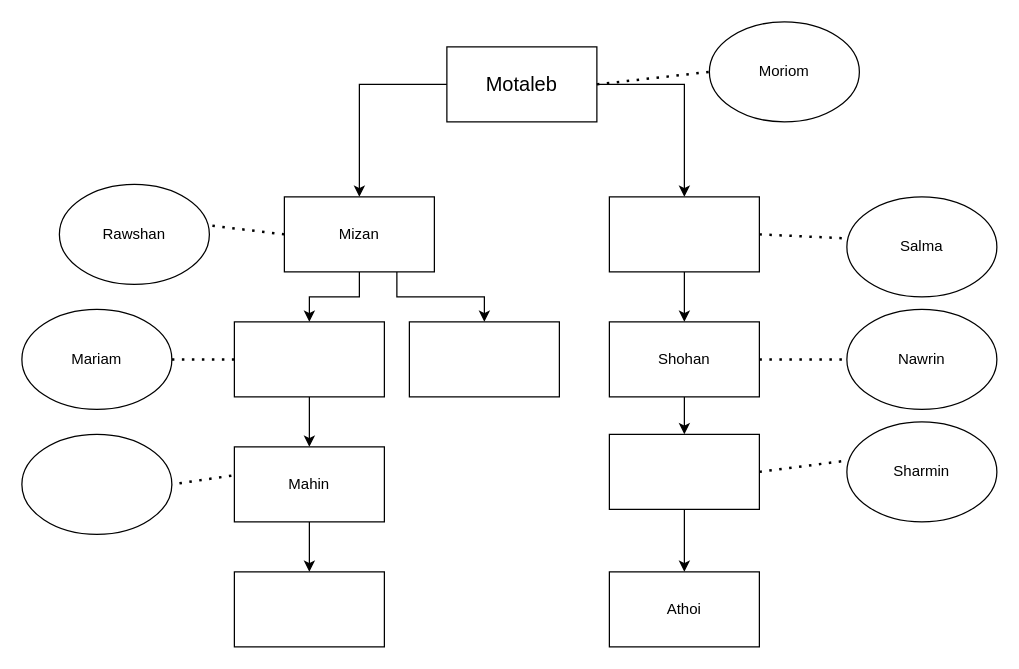
The diagram is 1019 pixels wide and 669 high, and some of its shapes have lost their labels. Each missing label, with the box of its shape:
Kashem: (608, 196, 759, 272)
Mow: (21, 433, 172, 534)
Mugdho: (233, 571, 384, 647)
Nakiba: (408, 321, 559, 397)
Rashik: (233, 321, 384, 397)
Shamim: (608, 433, 759, 509)
